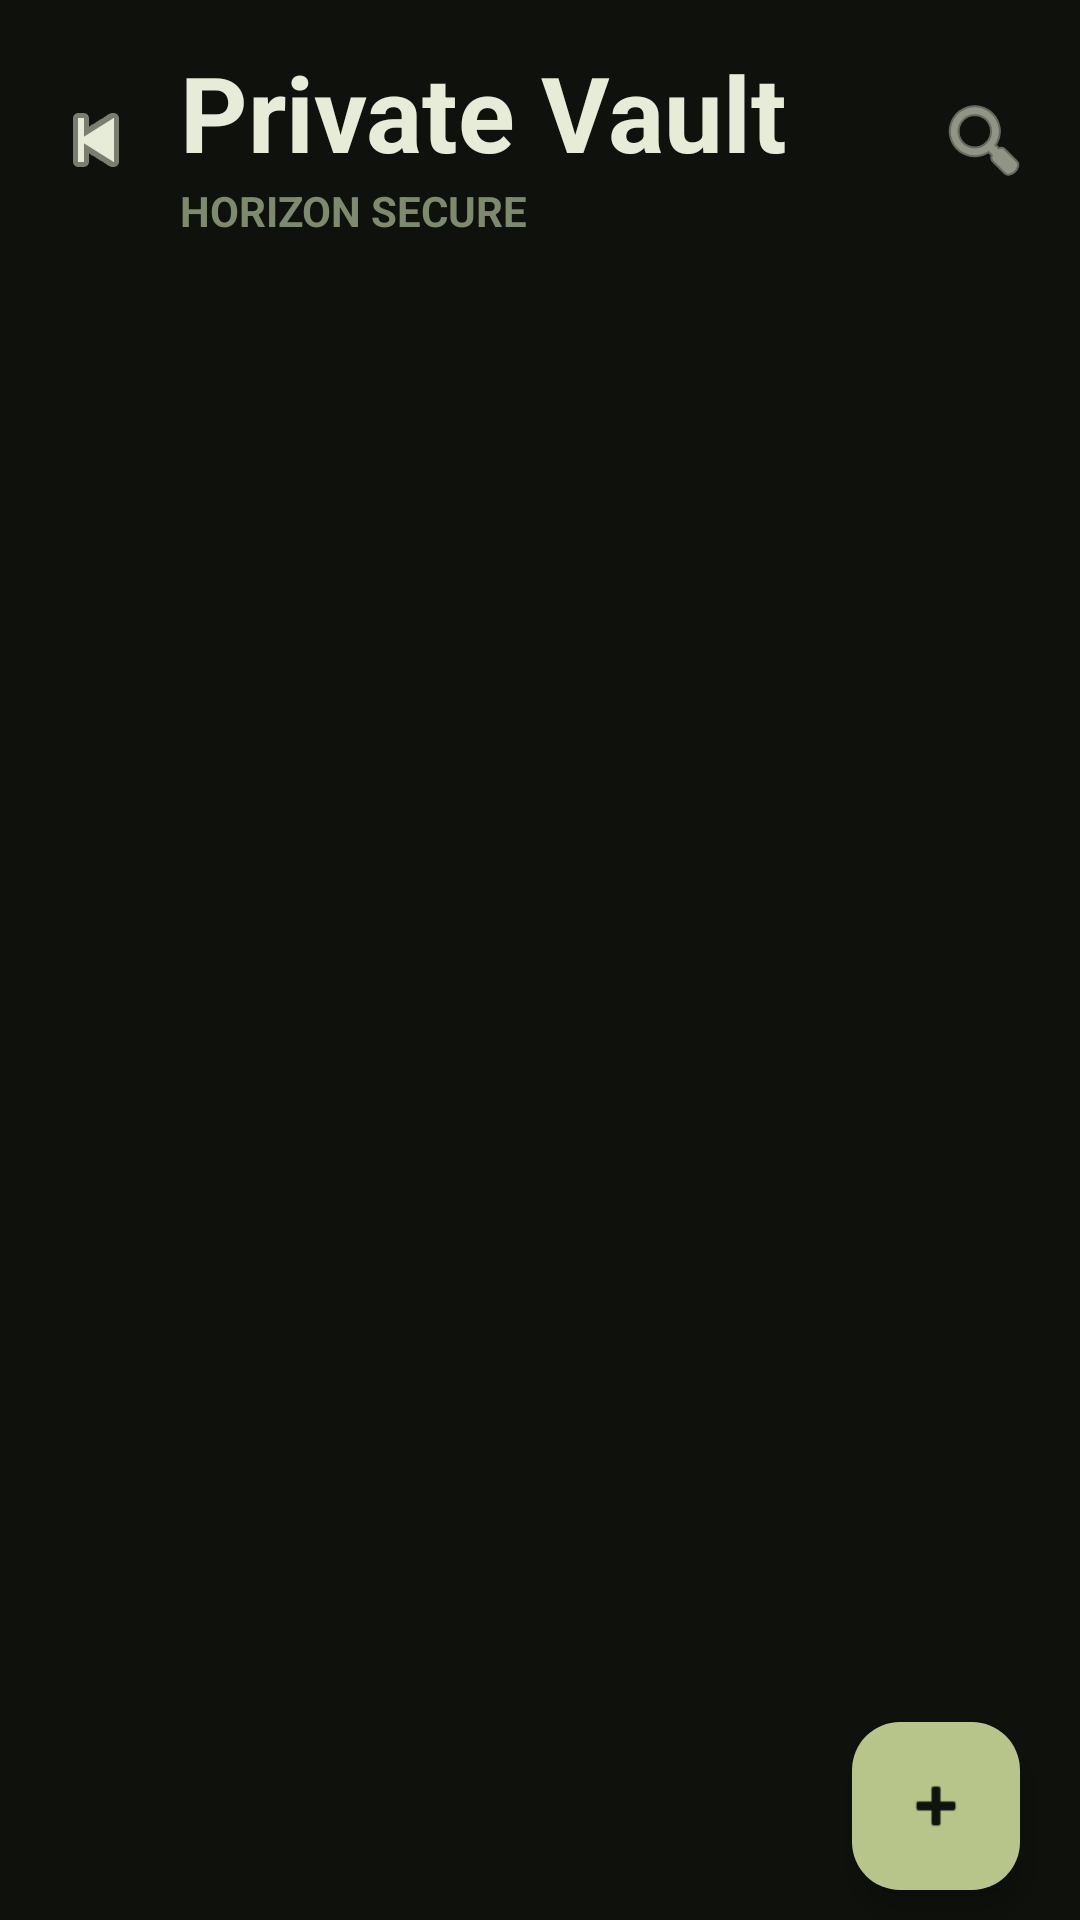

Where to tap for icons on this 1080 x 1920 app screen, as (x,y):
Add File: (936,1806)
Back: (96,140)
Search: (984,140)
